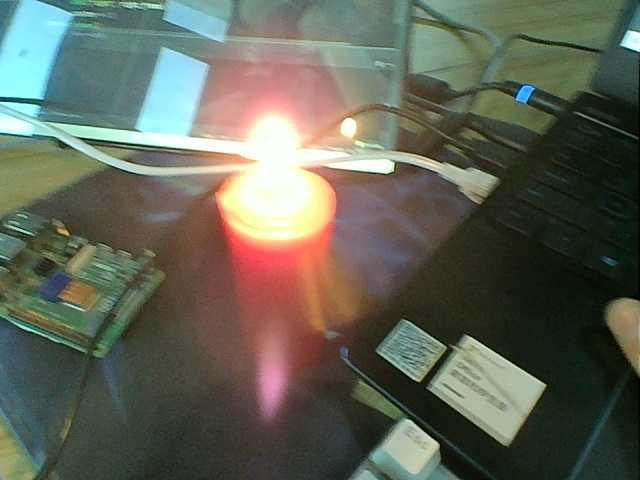candle: (218, 229, 334, 370)
fire: (235, 116, 321, 225), (334, 116, 358, 148)
